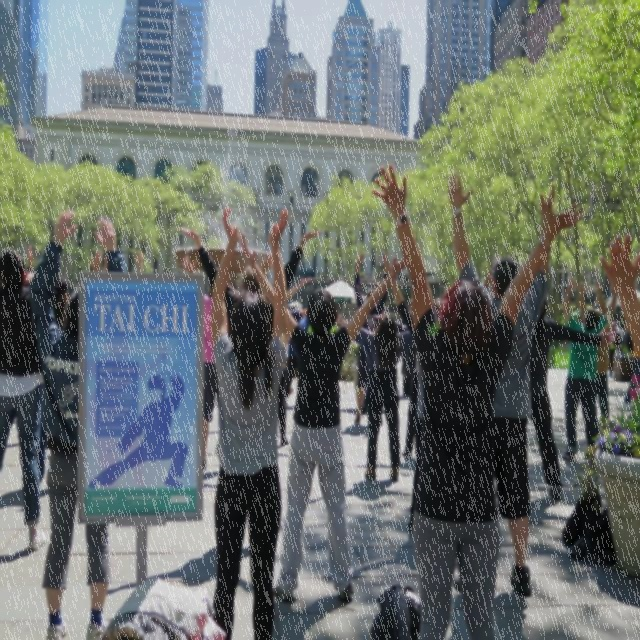pessoa: (367, 158, 586, 640), (238, 229, 408, 606), (436, 168, 562, 602), (204, 200, 294, 640), (24, 205, 112, 639), (528, 295, 618, 500), (178, 224, 324, 346), (82, 358, 196, 498), (87, 535, 276, 619), (334, 306, 418, 485), (560, 276, 618, 463), (182, 252, 220, 472), (37, 274, 73, 492), (352, 249, 391, 427), (574, 277, 612, 441), (274, 300, 312, 448), (400, 343, 426, 536), (596, 232, 640, 345), (16, 246, 44, 290), (622, 344, 640, 412), (608, 321, 622, 378), (432, 294, 450, 329), (258, 252, 275, 278), (610, 320, 624, 350), (620, 324, 634, 352), (480, 268, 496, 291), (134, 250, 146, 274), (98, 256, 110, 272), (406, 298, 414, 320)
